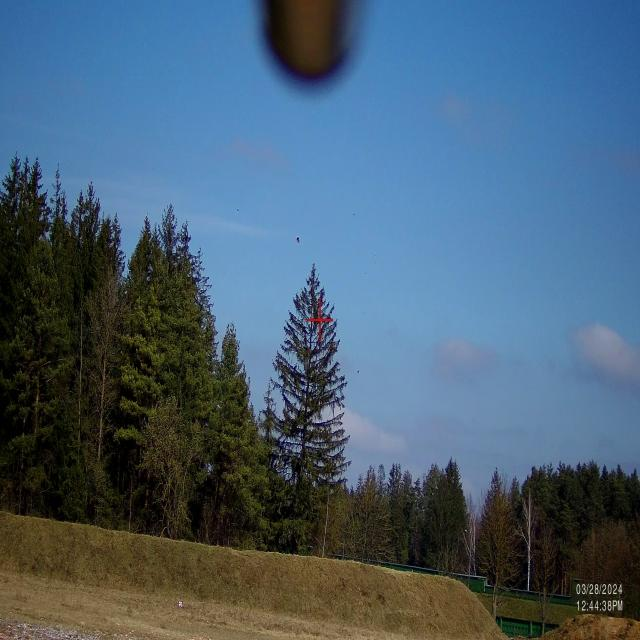broken: (222, 209, 412, 382)
